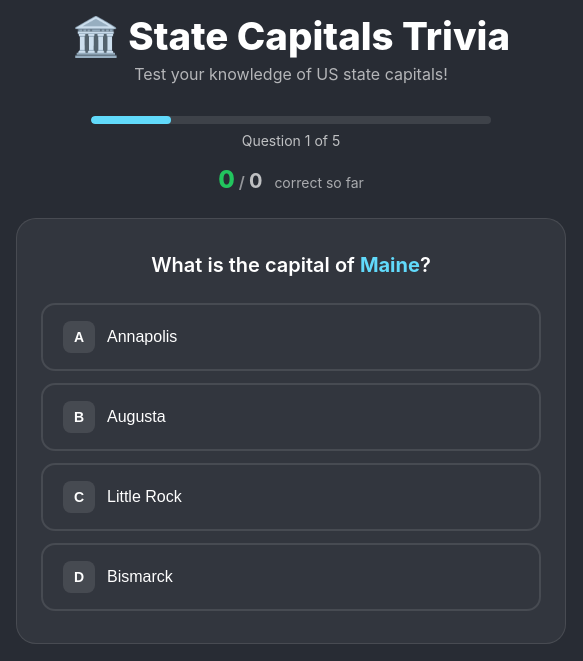
StateCapitalsPage – interactions › advances to the next question after feedback delay
Click the button with aria-label "Answer option:" at coordinates (79, 337), box [41, 303, 541, 371]
Wait 1300 ms
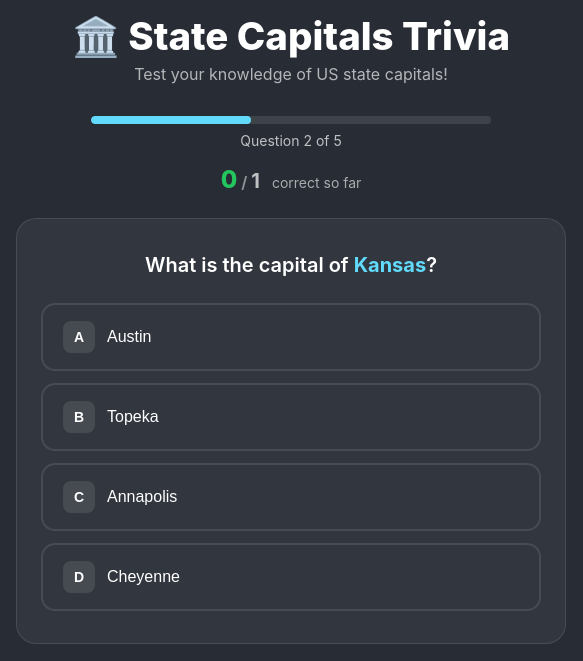
Expected: the text "Question 2 of 5" is shown, [240, 132, 342, 149]
